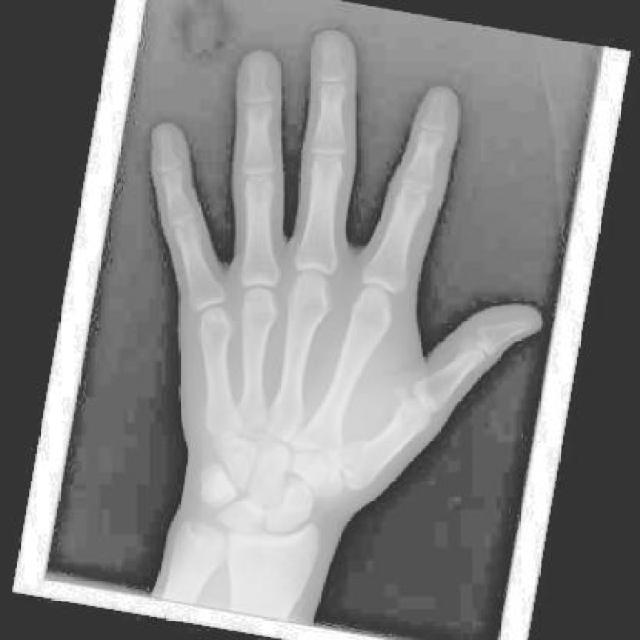Fracture: (334, 425, 374, 479)
